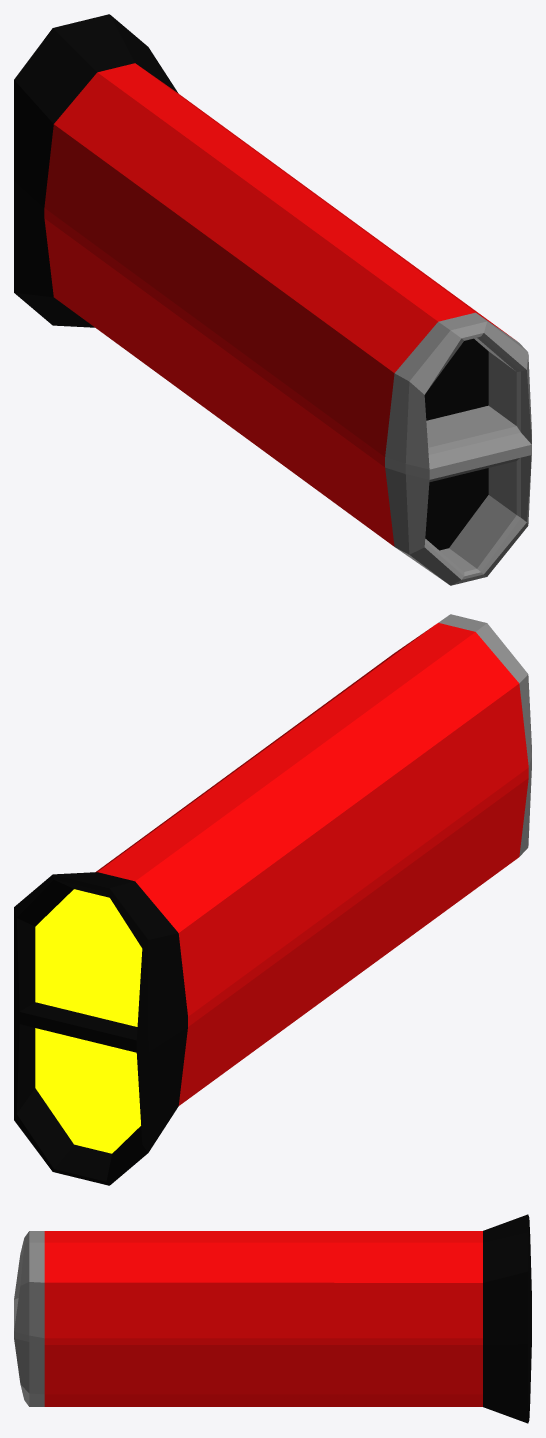
File: Engine 2.fbx
3 views of the same model, one above another, from view 1: azimuth 30°, elevation 25°; view 2: azimuth 150°, elevation 25°; view 3: azimuth 270°, elevation 25° (orthographic). The views are drawn at different scales.
Parts seen in each view (by area): view 1: engine 2; view 2: engine 2; view 3: engine 2.
Part boxes in pixels (x1,y1,x2,y2): engine 2: (14, 14, 531, 585); engine 2: (14, 614, 531, 1185); engine 2: (14, 1214, 531, 1423).
Bounding box in the file's own units: 2.82 × 5.58 × 13.68.
